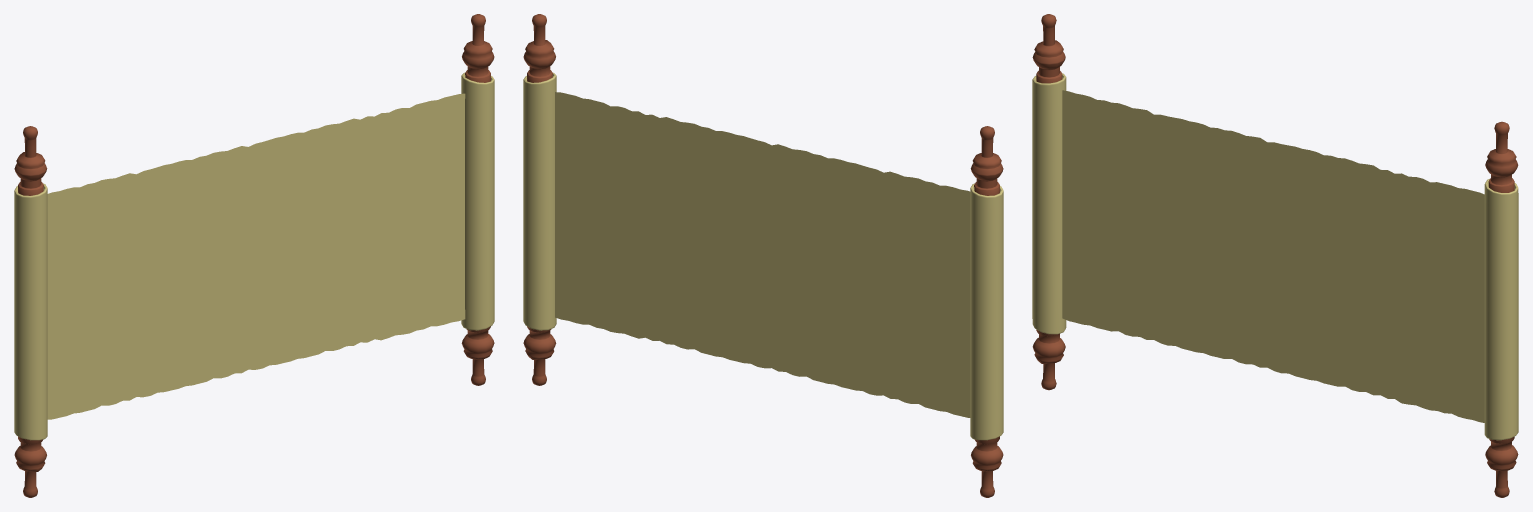
File: scroll.fbx
3 views of the same model, side by side, from view 1: azimuth 30°, elevation 25°; view 2: azimuth 150°, elevation 25°; view 3: azimuth 330°, elevation 25° (orthographic).
Parts seen in each view (by area): view 1: Plane; view 2: Plane; view 3: Plane.
Part boxes in pixels (x1,y1,x2,y2): Plane: (14, 14, 494, 497); Plane: (523, 14, 1003, 497); Plane: (1032, 14, 1518, 497).
Size of the model in its own units: 254 by 190 by 15.47.
